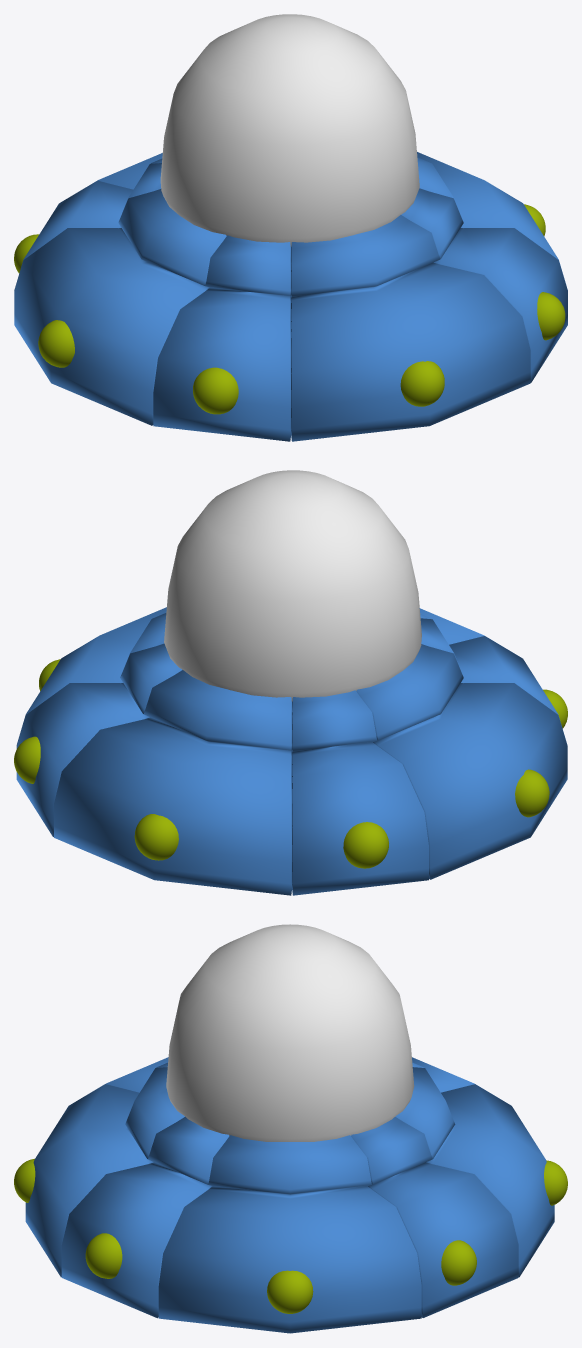
File: spaceship_ufo_2.fbx
3 renders of one model, top to bottom at view 1: azimuth 30°, elevation 25°; view 2: azimuth 150°, elevation 25°; view 3: azimuth 270°, elevation 25°, orthographic. The views are drawn at different scales.
Visible parts, largest first — view 1: UFO ship, cloche, Lights.001, Lights, Lights.002, Lights.006; view 2: UFO ship, cloche, Lights.004, Lights.003, Lights.002, Lights.007; view 3: UFO ship, cloche, Lights.005, Lights.006, Lights.007, Lights.003, Lights.
Boxes of the visible parts, <box> form: UFO ship: <box>14,152,567,441</box>; cloche: <box>160,14,419,246</box>; Lights.001: <box>193,367,238,414</box>; Lights: <box>400,361,444,406</box>; Lights.002: <box>38,320,74,367</box>; Lights.006: <box>537,292,565,340</box>; UFO ship: <box>16,607,567,895</box>; cloche: <box>164,470,421,701</box>; Lights.004: <box>343,822,388,868</box>; Lights.003: <box>134,814,178,860</box>; Lights.002: <box>515,769,549,817</box>; Lights.007: <box>14,736,40,783</box>; UFO ship: <box>25,1057,554,1333</box>; cloche: <box>166,924,414,1141</box>; Lights.005: <box>267,1270,313,1313</box>; Lights.006: <box>85,1233,122,1278</box>; Lights.007: <box>441,1240,476,1285</box>; Lights.003: <box>544,1160,567,1205</box>; Lights: <box>14,1158,35,1202</box>.
Bounding box in the file's own units: 489 × 341 × 488.
